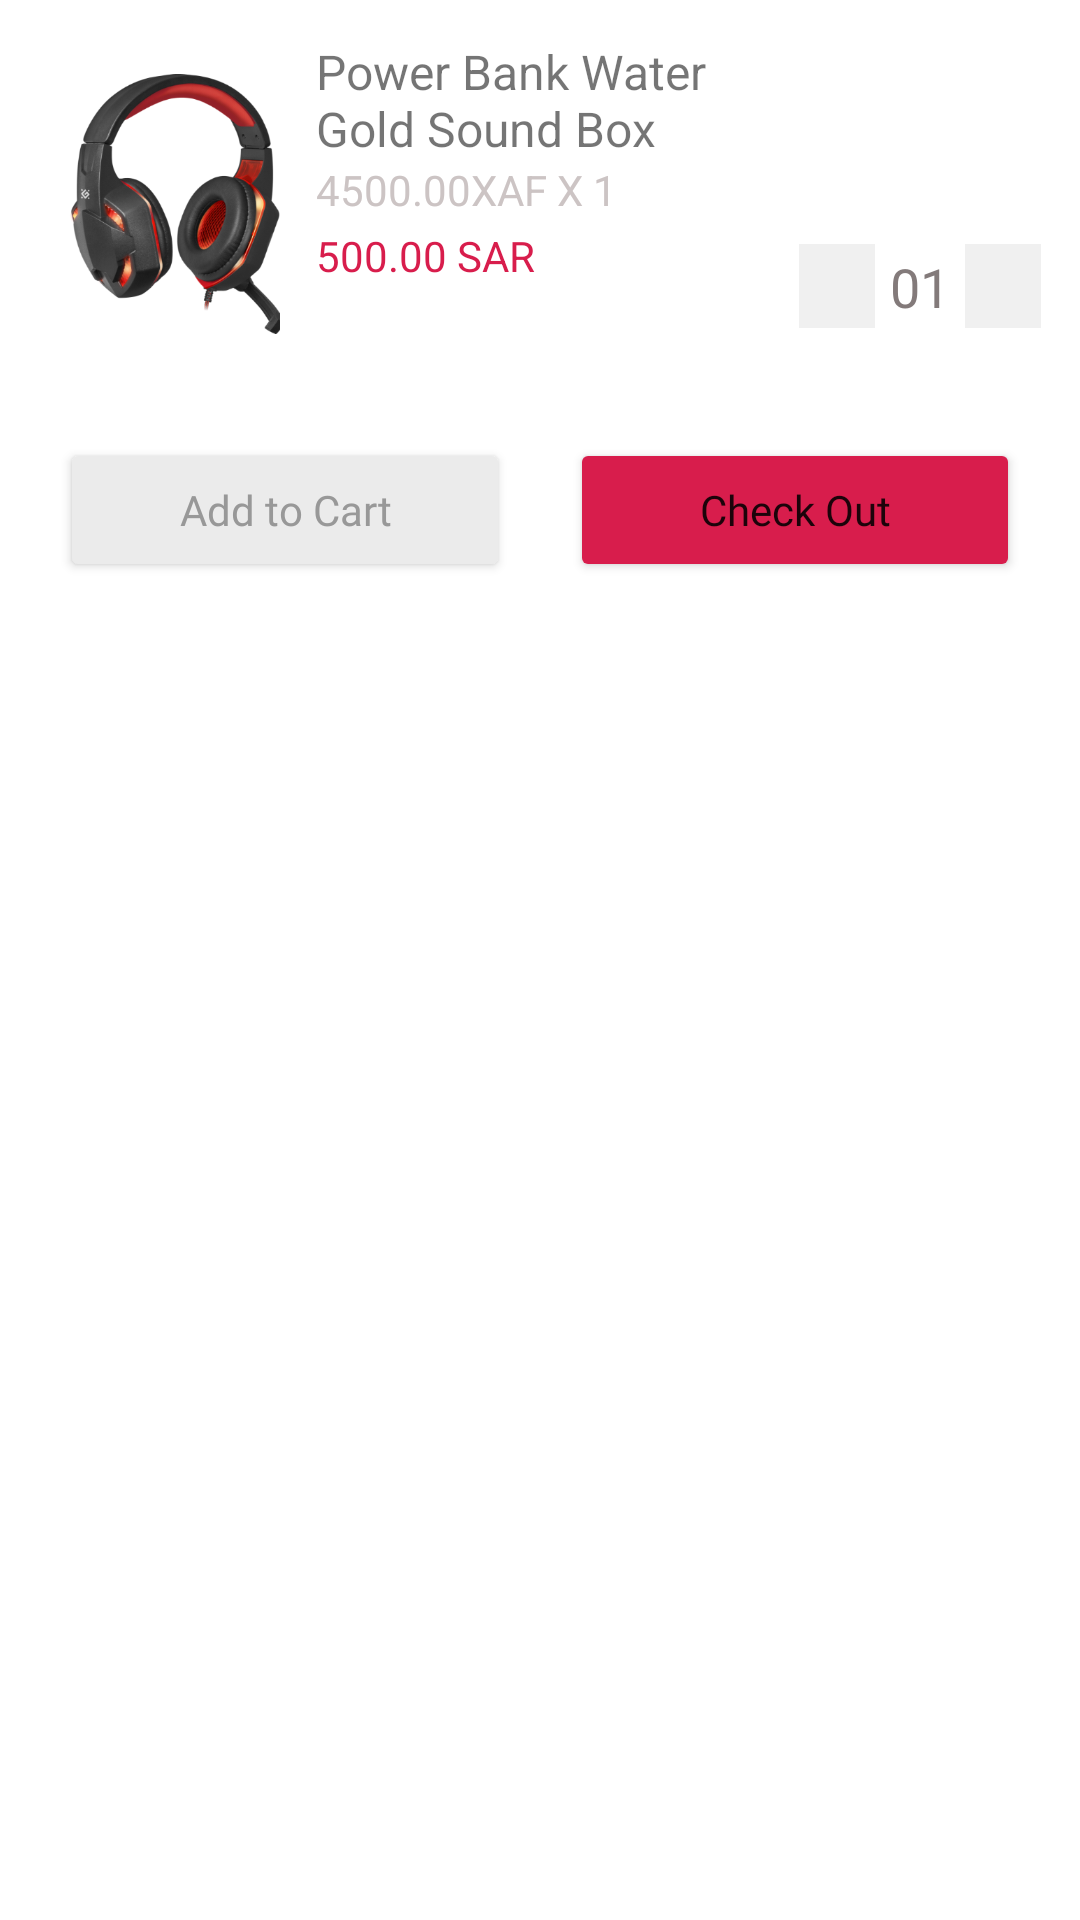

Named icons in this screenshot (1080*1920) and their centers, point (x, y):
headphones: point (175, 204)
